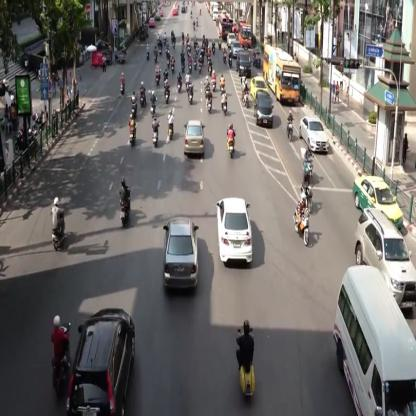bus: (263, 44, 301, 105), (238, 21, 252, 49), (218, 12, 232, 38)
car: (68, 306, 137, 415), (356, 208, 416, 310), (354, 174, 404, 230), (164, 218, 200, 290), (216, 198, 252, 262), (300, 116, 329, 154), (183, 122, 205, 154), (255, 91, 274, 127), (237, 51, 251, 76), (231, 41, 241, 57), (227, 35, 236, 48)
motocycle: (236, 318, 262, 397), (51, 314, 73, 394), (294, 191, 310, 245), (52, 196, 66, 250), (118, 178, 131, 228), (302, 146, 314, 194), (227, 124, 236, 159), (241, 76, 250, 110), (151, 115, 160, 149), (128, 114, 137, 146), (167, 109, 175, 143), (130, 89, 139, 119), (204, 86, 213, 114), (286, 111, 294, 142), (149, 88, 157, 115), (221, 87, 228, 114), (119, 73, 127, 95), (204, 75, 212, 97), (140, 84, 147, 108), (164, 78, 170, 104), (188, 80, 194, 106), (180, 50, 186, 76), (170, 54, 177, 76), (207, 55, 213, 79), (193, 51, 199, 74), (185, 70, 191, 93), (210, 70, 216, 92), (188, 51, 193, 75), (177, 71, 182, 95), (155, 63, 160, 86), (223, 45, 228, 67), (152, 44, 158, 62), (218, 31, 223, 51), (146, 42, 151, 61), (164, 68, 168, 91), (158, 36, 163, 54), (212, 38, 217, 56), (201, 36, 206, 53), (228, 52, 233, 69), (198, 58, 203, 75), (166, 45, 170, 66), (221, 74, 225, 95), (181, 30, 185, 50), (194, 36, 198, 53), (185, 31, 190, 44)
person: (401, 132, 409, 166), (331, 80, 337, 103), (334, 80, 340, 103), (101, 54, 107, 72), (339, 72, 344, 89)
van: (334, 267, 416, 415)
